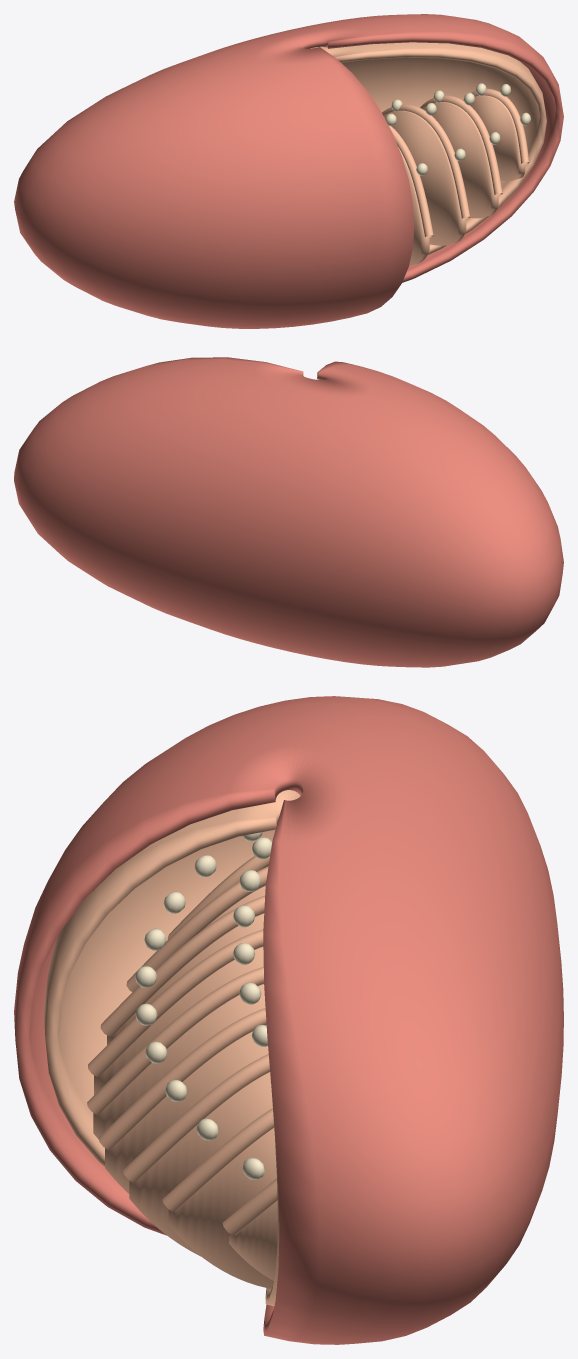
File: mitochondrion.glb
The picture shows the model from 3 angles, top to bottom: view 1: azimuth 30°, elevation 25°; view 2: azimuth 150°, elevation 25°; view 3: azimuth 270°, elevation 25°; orthographic projection. The views are drawn at different scales.
Parts seen in each view (by area): view 1: outer-membrane, cristae, inner-membrane, ATP-synthase; view 2: outer-membrane; view 3: outer-membrane, cristae, inner-membrane, ATP-synthase.
Part boxes in pixels (<box>): outer-membrane: <box>14,14,563,328</box>; cristae: <box>382,88,529,265</box>; inner-membrane: <box>310,42,546,254</box>; ATP-synthase: <box>385,83,530,175</box>; outer-membrane: <box>14,357,563,667</box>; outer-membrane: <box>14,696,563,1344</box>; cristae: <box>87,856,277,1288</box>; inner-membrane: <box>44,790,300,1306</box>; ATP-synthase: <box>135,832,272,1179</box>.
Size of the model in its own units: 8.2 by 3.89 by 4.2.
